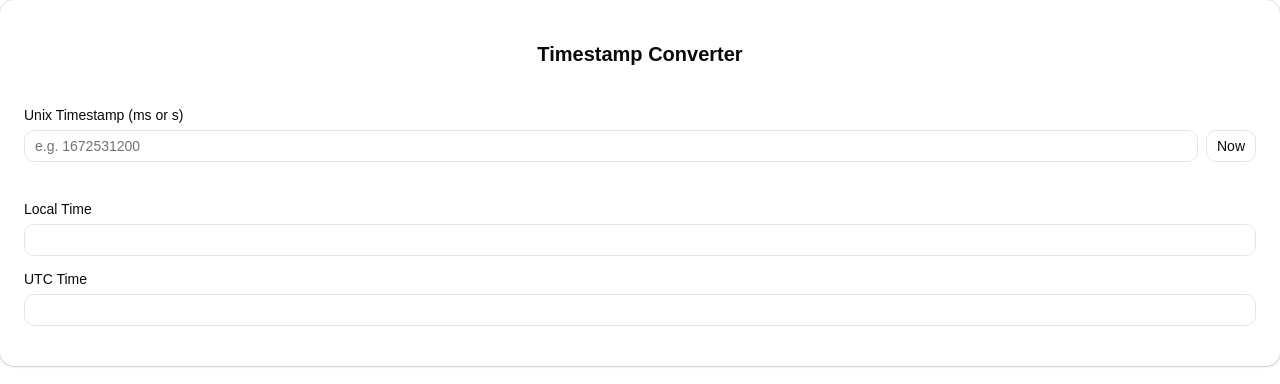
Test: TimestampConverter › handles "Now" button click
What coordinates should you click on to do the following:
click the button "Now"
I would click on:
 (1231, 146)
Its box is [1206, 130, 1256, 162].
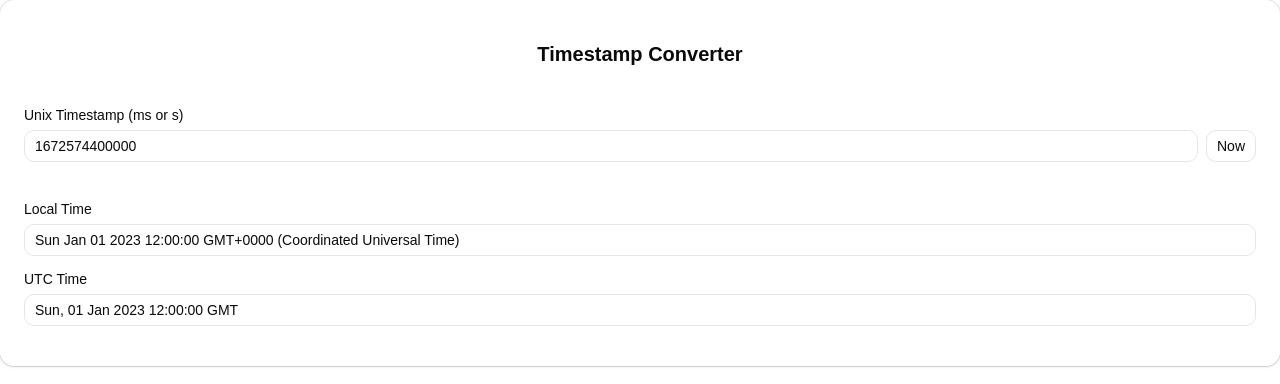
Now the field with placeholder "e.g. 1672531200" below "Unix Timestamp (ms or s)" holds "1672574400000", box [24, 130, 1198, 162]
